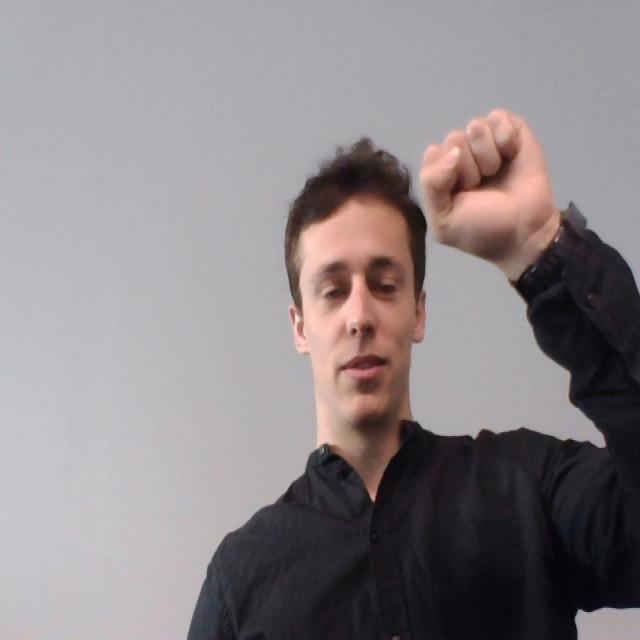stop: (419, 100, 558, 264)
